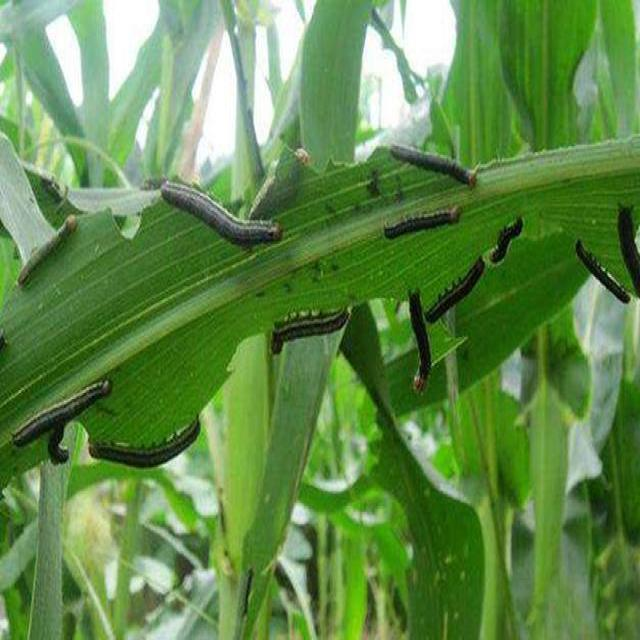pest: (12, 375, 116, 449), (163, 184, 283, 247), (90, 422, 210, 469), (272, 301, 347, 368), (393, 139, 486, 190), (572, 238, 628, 320), (431, 255, 486, 320), (406, 290, 436, 400), (386, 210, 463, 246), (619, 200, 640, 298), (492, 216, 526, 276)
